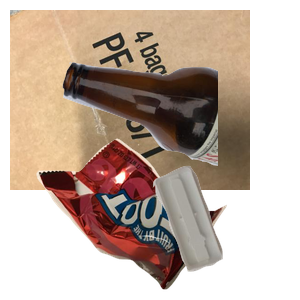cardboard: (10, 10, 250, 190)
glass: (60, 59, 300, 217)
plastic: (150, 163, 300, 300)
trash: (34, 136, 253, 300)
